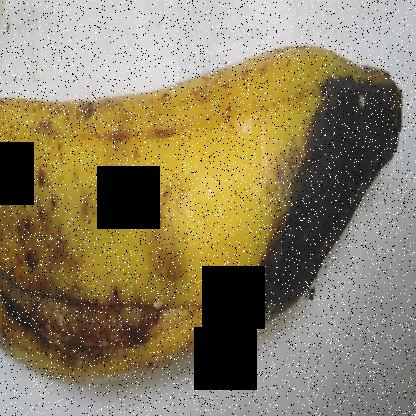rotten: (231, 17, 414, 319), (0, 182, 209, 407)
